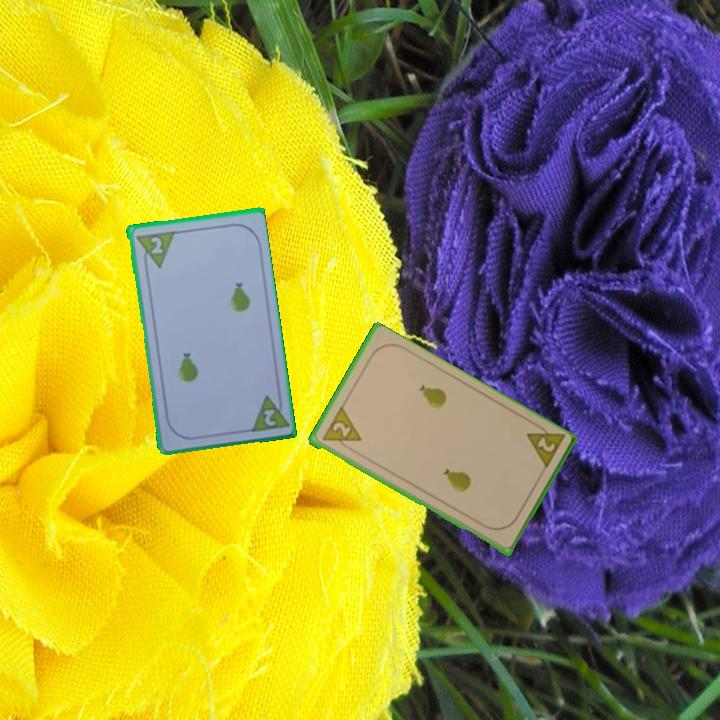2p: (522, 419, 567, 473), (318, 404, 364, 454), (246, 389, 290, 435), (132, 227, 176, 272)
